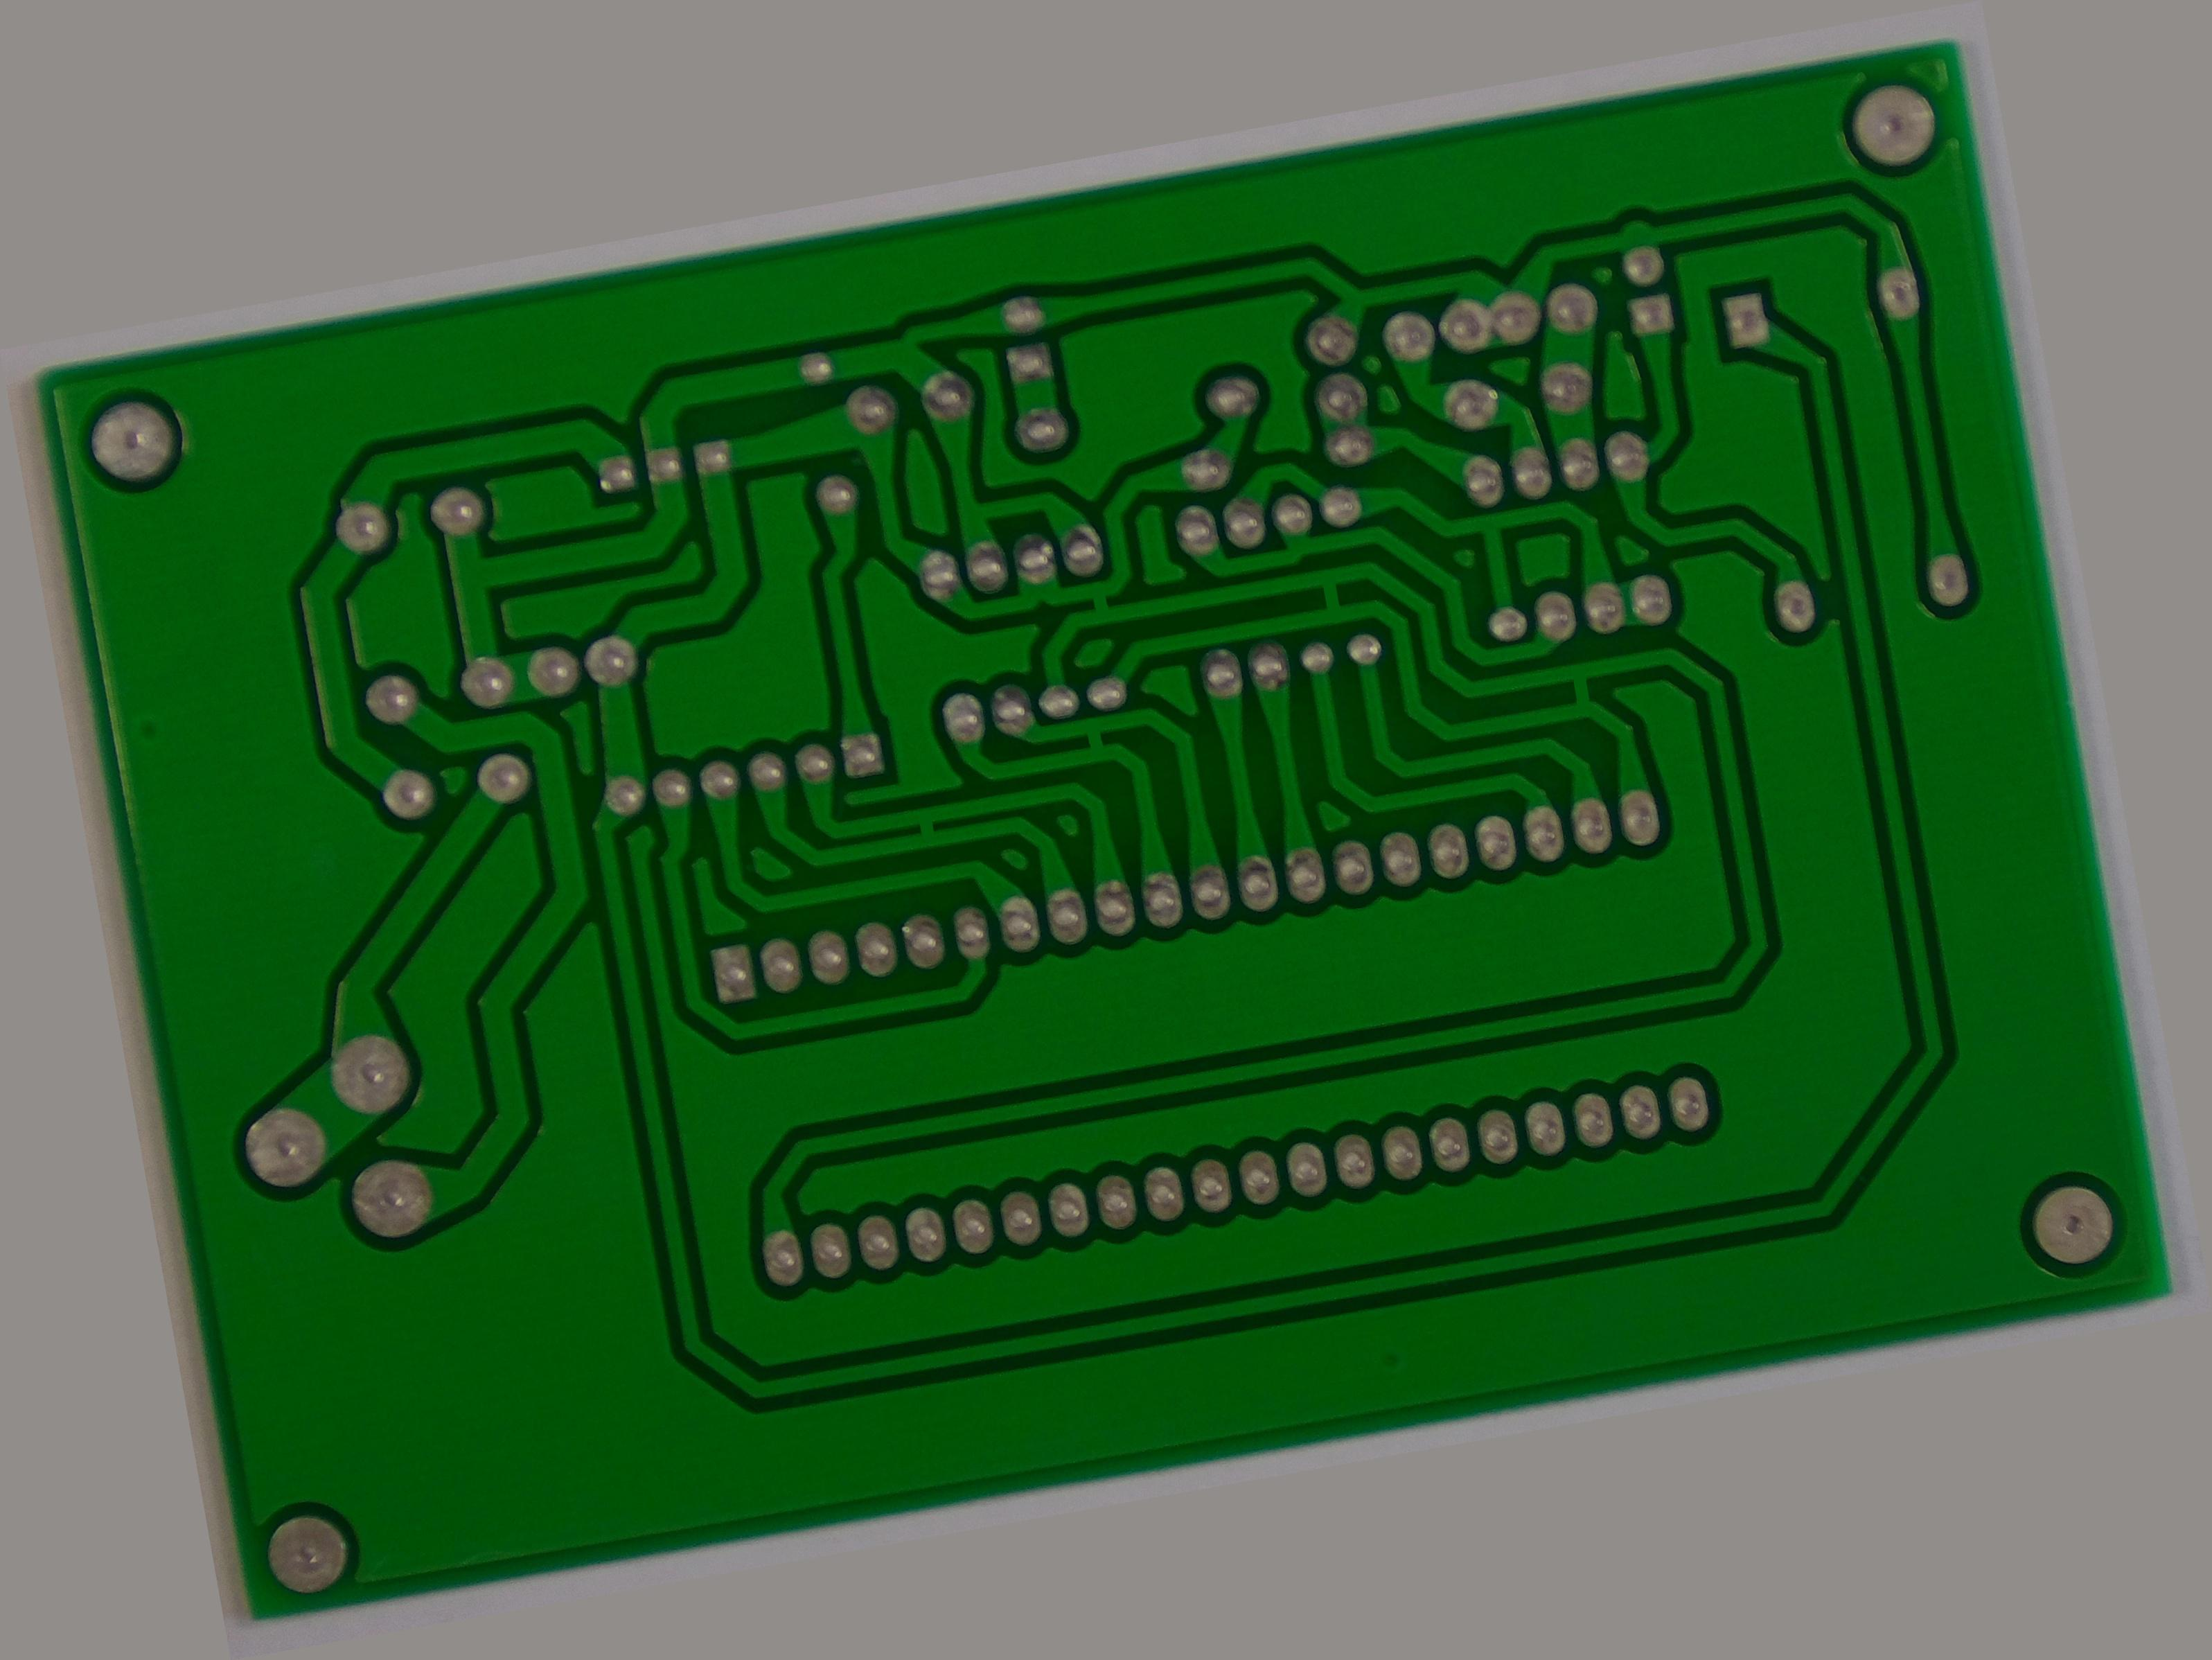short: (1541, 647, 1616, 732), (1051, 704, 1133, 772), (1058, 563, 1131, 636), (1300, 558, 1368, 633), (898, 802, 955, 858)
